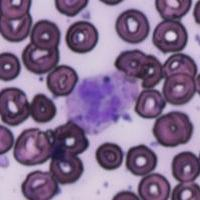N: (63, 70, 137, 134)
